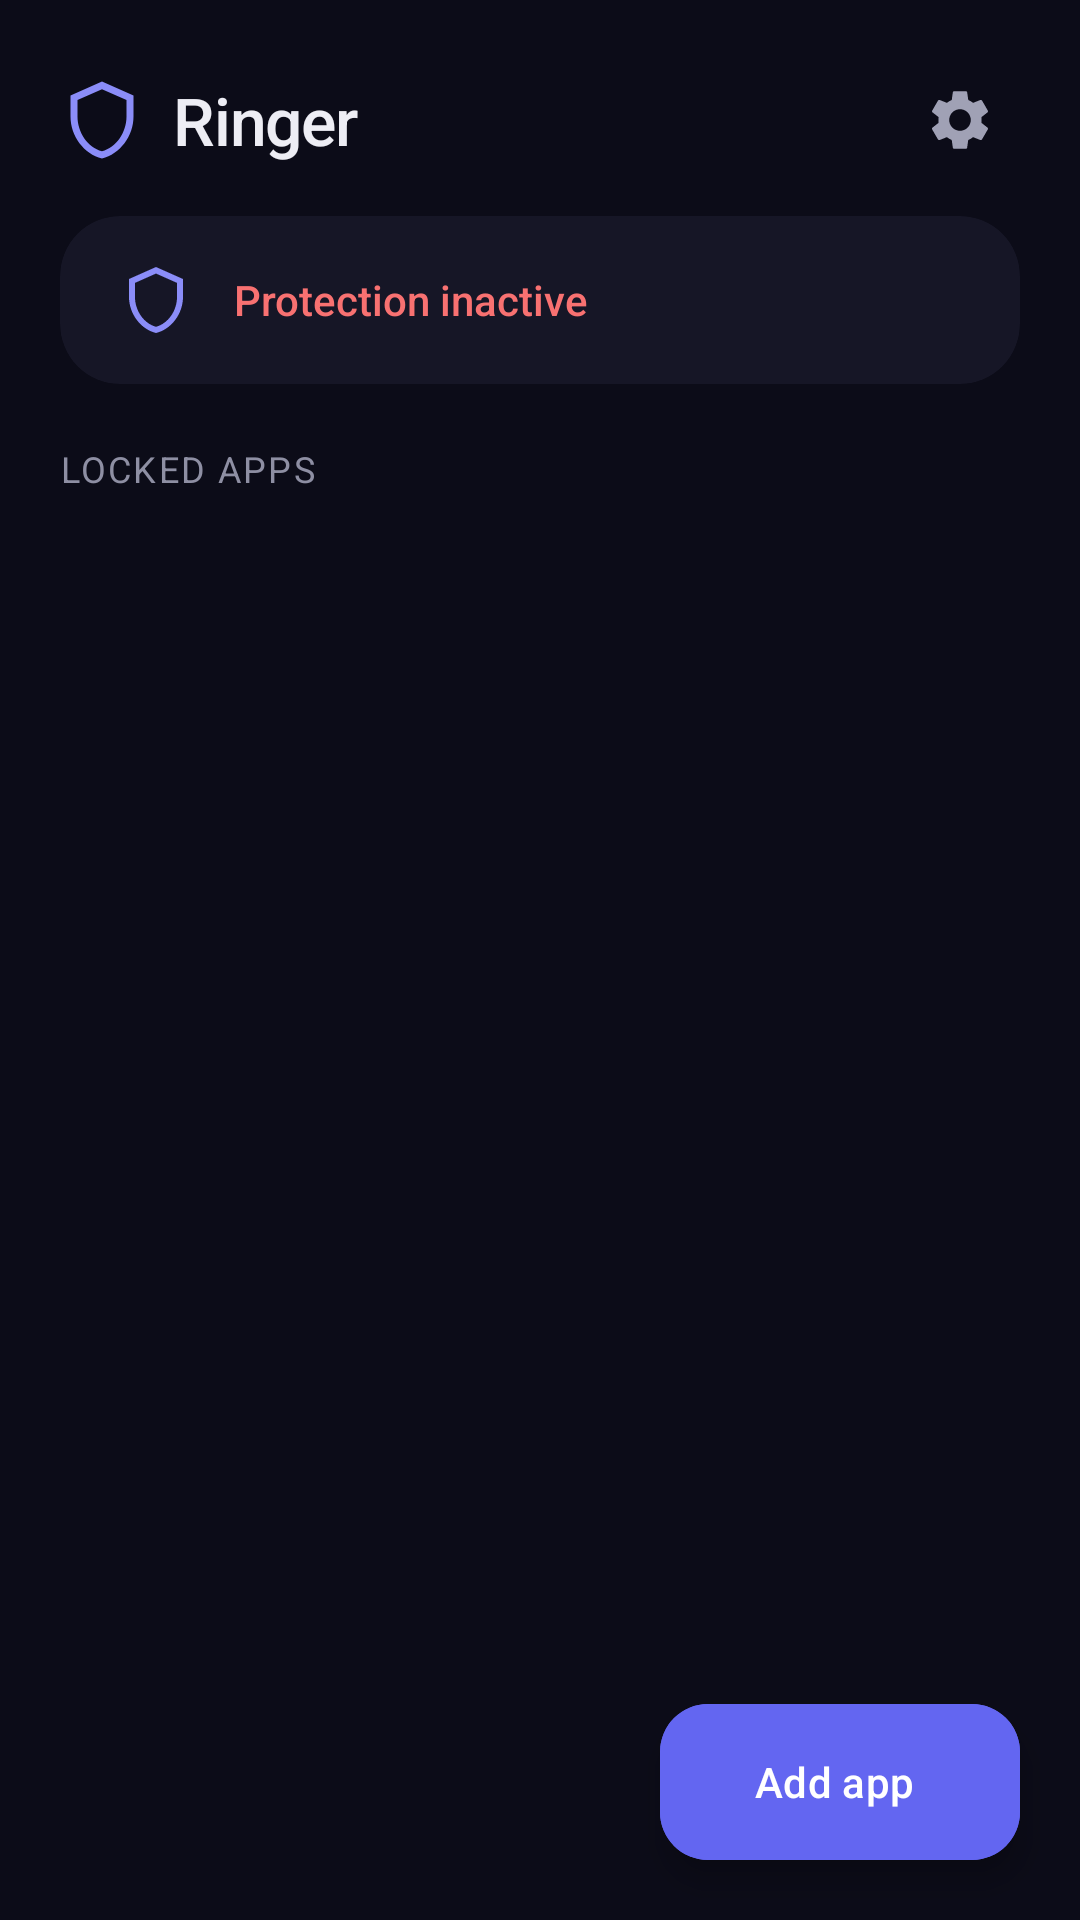

Icon click points for this 1080×1920 phone screenshot, format (x=x, y=y):
Settings: (x=960, y=120)
shield: (x=102, y=120), (x=156, y=300)
